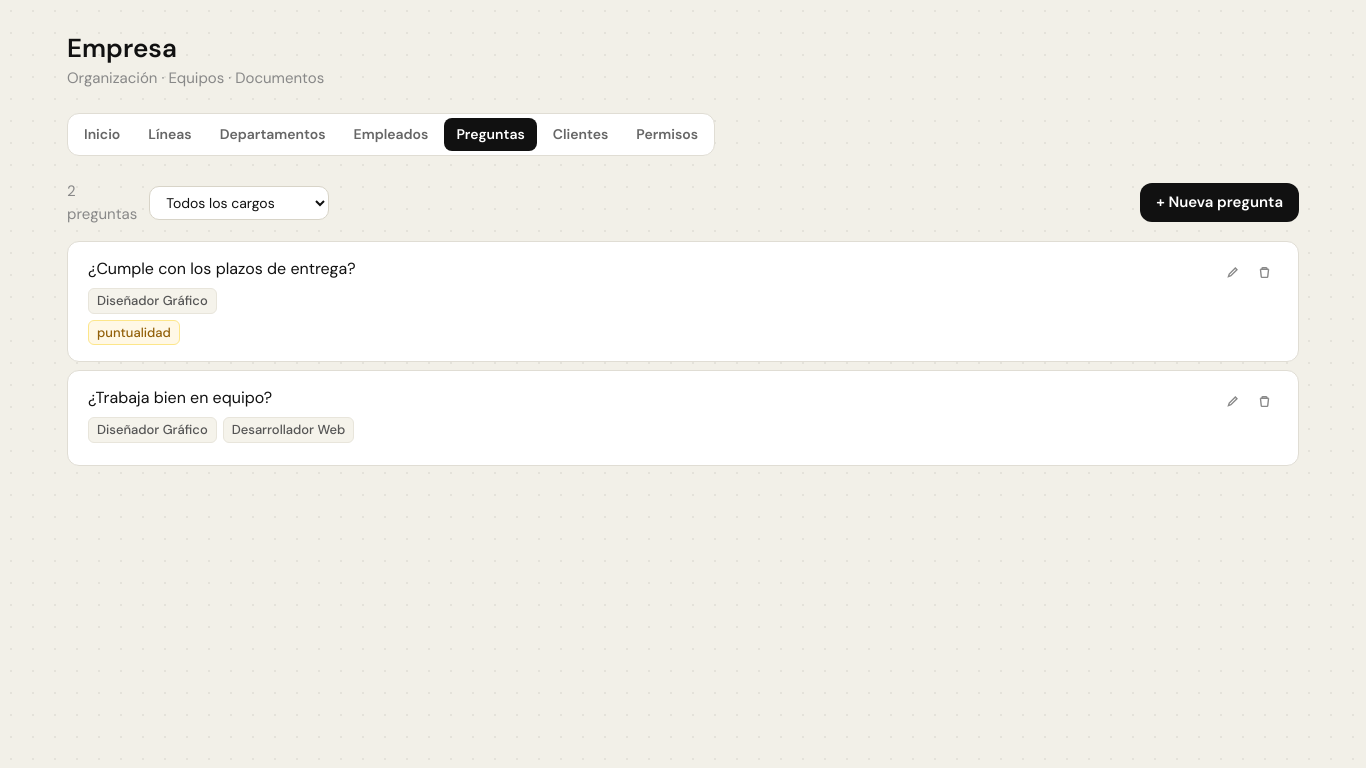
Test case: QuestionsView › el botón Editar abre el modal pre-rellenado con el texto de la pregunta
The width and height of the screenshot is (1366, 768).
Expected: the text "¿Cumple con los plazos de entrega?" is shown, 88,258 -> 356,279
Click the button named "Editar pregunta" in the row of "¿Cumple con los plazos de entrega?".
click(1232, 272)  # box 1218,258 -> 1246,286
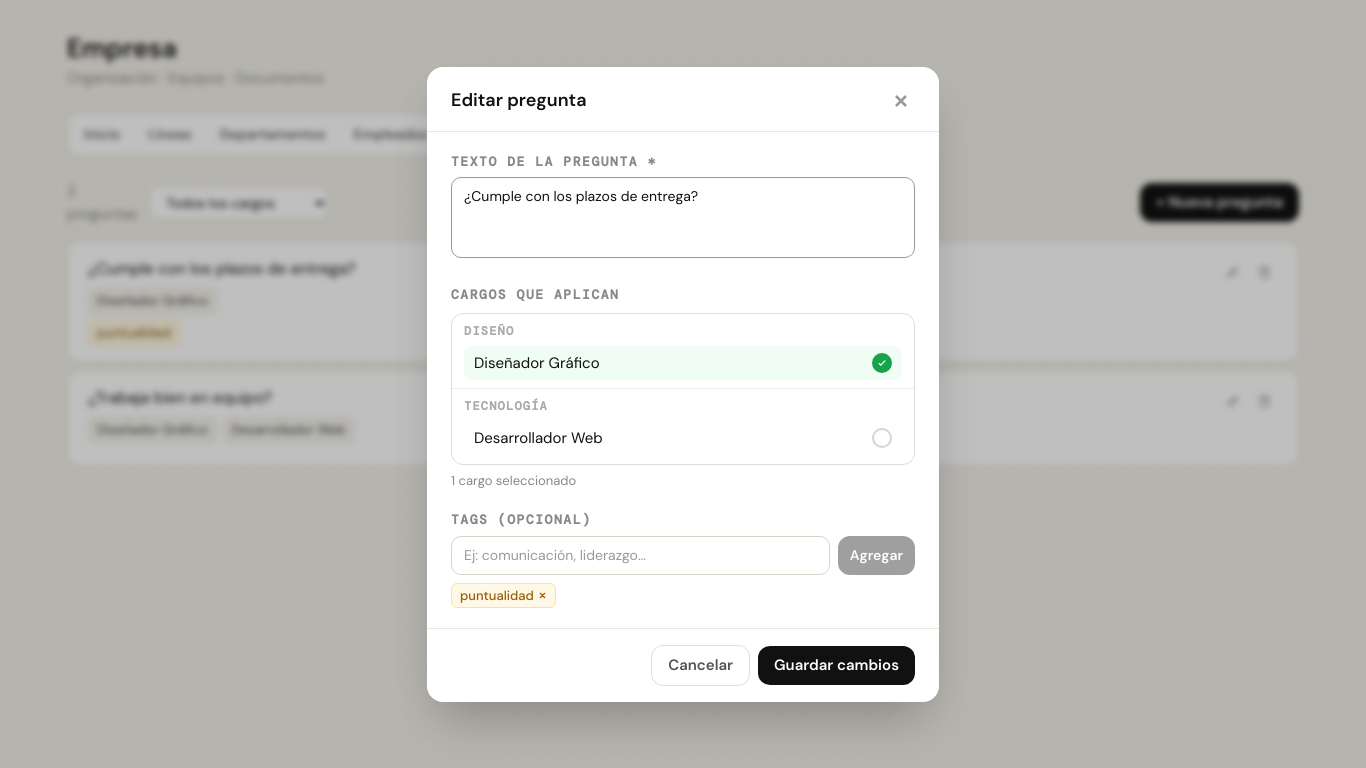
Now the heading "Editar pregunta" is shown, box 451,87 -> 586,114
Now the text box showing "¿Cumple con los plazos de entrega?" is shown, box 451,177 -> 915,258
